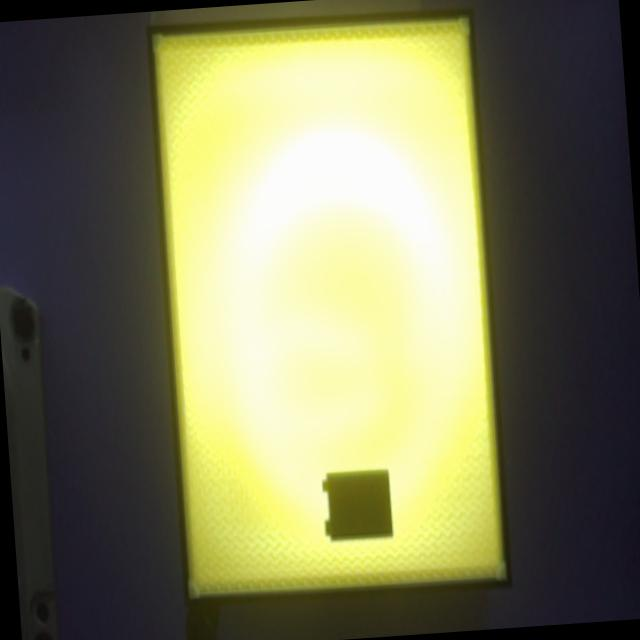bateria: (323, 470, 393, 538)
mesa: (147, 10, 512, 609)
